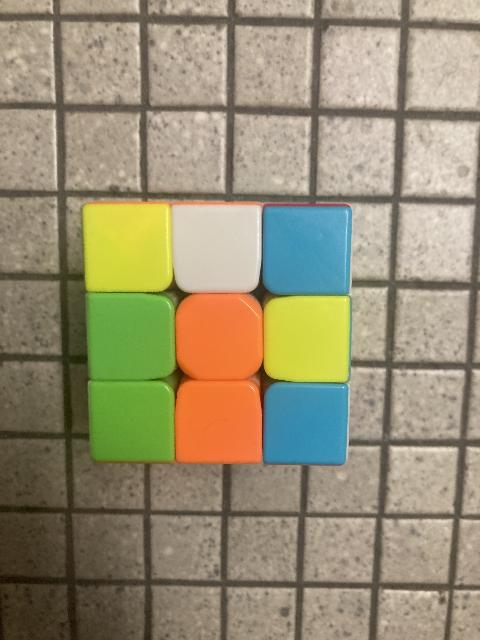Blue: (264, 208, 348, 294), (269, 386, 347, 464)
Green: (89, 299, 172, 381), (91, 386, 173, 464)
Orange: (176, 300, 262, 382), (178, 386, 260, 466)
White: (175, 204, 261, 292)
Yellow: (84, 205, 172, 295), (264, 298, 350, 382)
